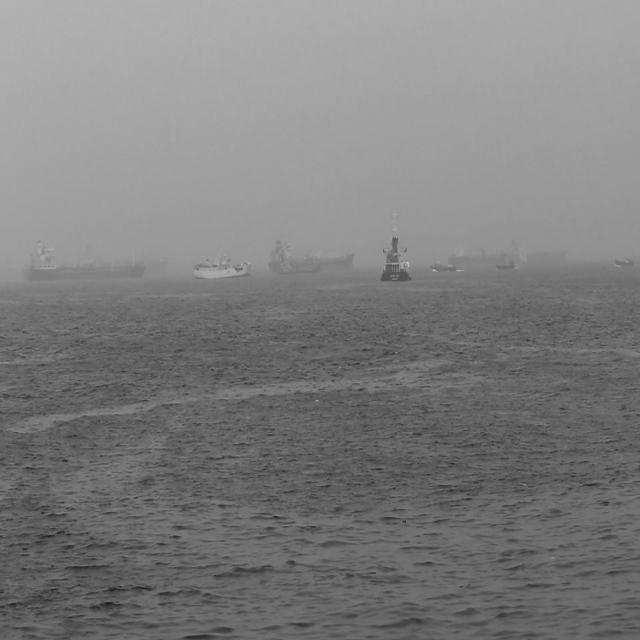ship: (28, 238, 148, 279), (270, 240, 356, 276), (382, 212, 412, 284), (193, 253, 254, 280), (448, 246, 516, 263), (430, 262, 457, 273), (615, 256, 635, 268), (494, 262, 516, 272)
